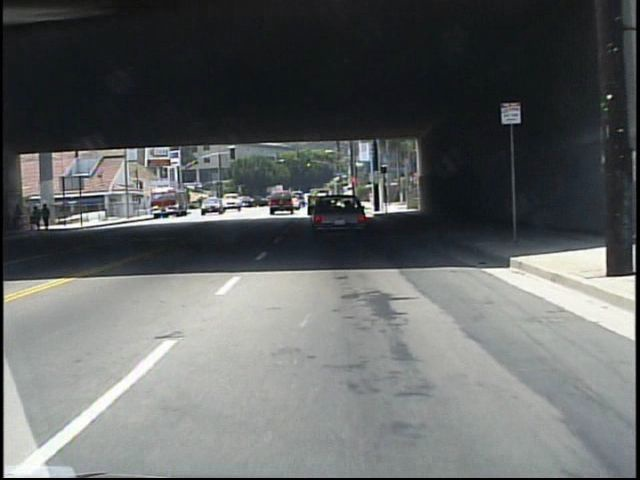person: (28, 203, 41, 232), (13, 203, 24, 234), (41, 203, 52, 232)
